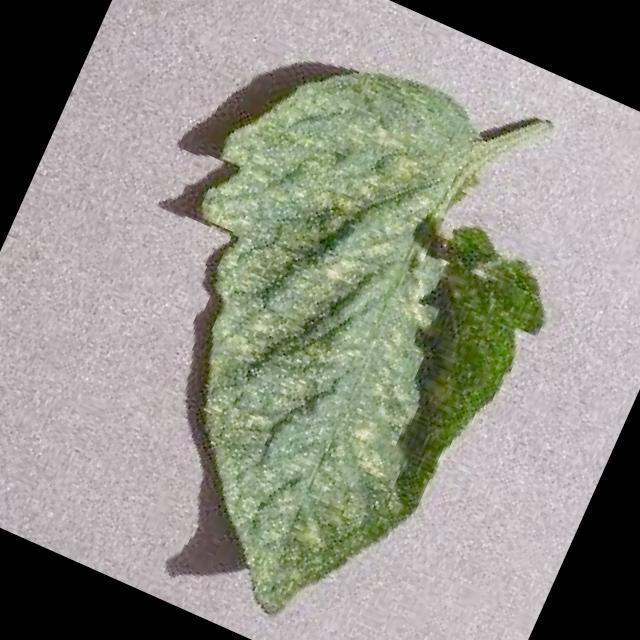Tomato spider mites leaf: (49, 15, 615, 640)
